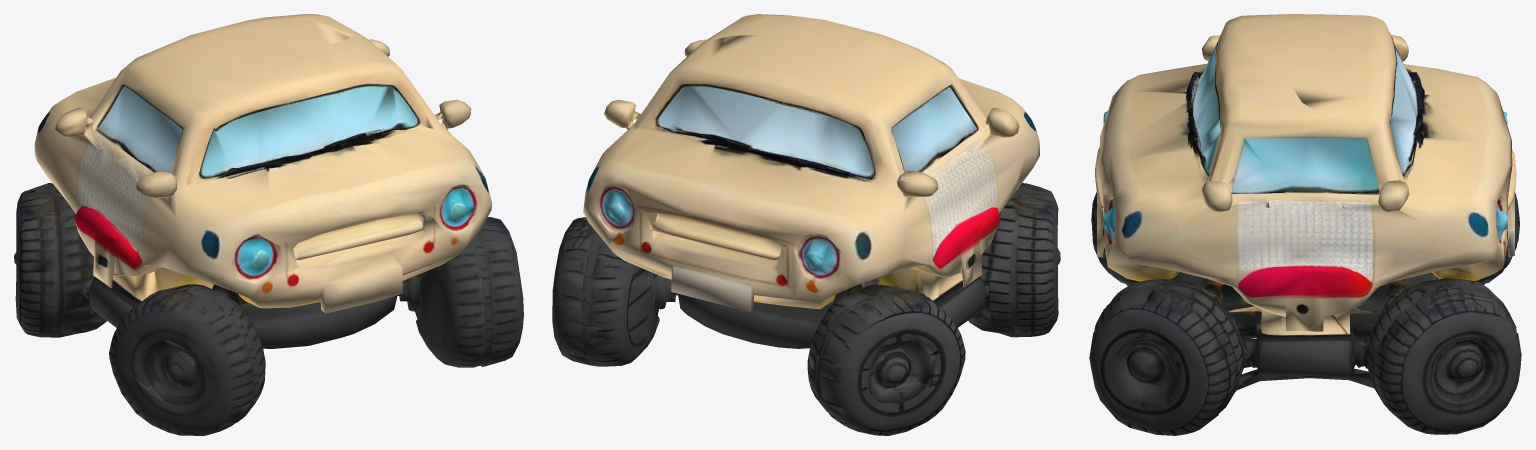
Rendered from car.glb.
3 views of the same model, side by side, from view 1: azimuth 30°, elevation 25°; view 2: azimuth 150°, elevation 25°; view 3: azimuth 270°, elevation 25° (orthographic). The views are drawn at different scales.
Parts seen in each view (by area): view 1: body, wheel1, wheel3, wheel0; view 2: body, wheel0, wheel2, wheel1; view 3: body, wheel2, wheel3, wheel1, wheel0.
Part boxes in pixels (box(x1,y1,x2,y2)): body: box(20, 14, 508, 348); wheel1: box(109, 302, 265, 435); wheel3: box(394, 231, 523, 367); wheel0: box(14, 183, 106, 337); body: box(566, 14, 1055, 348); wheel0: box(807, 300, 965, 435); wheel2: box(552, 224, 686, 366); wheel1: box(968, 183, 1060, 337); body: box(1095, 14, 1516, 390); wheel2: box(1360, 283, 1521, 434); wheel3: box(1089, 282, 1245, 435); wheel1: box(1091, 192, 1173, 285); wheel0: box(1437, 193, 1519, 284).
Size of the model in its own units: 1.9 by 1.36 by 1.74.
1 material, 1 textured.
